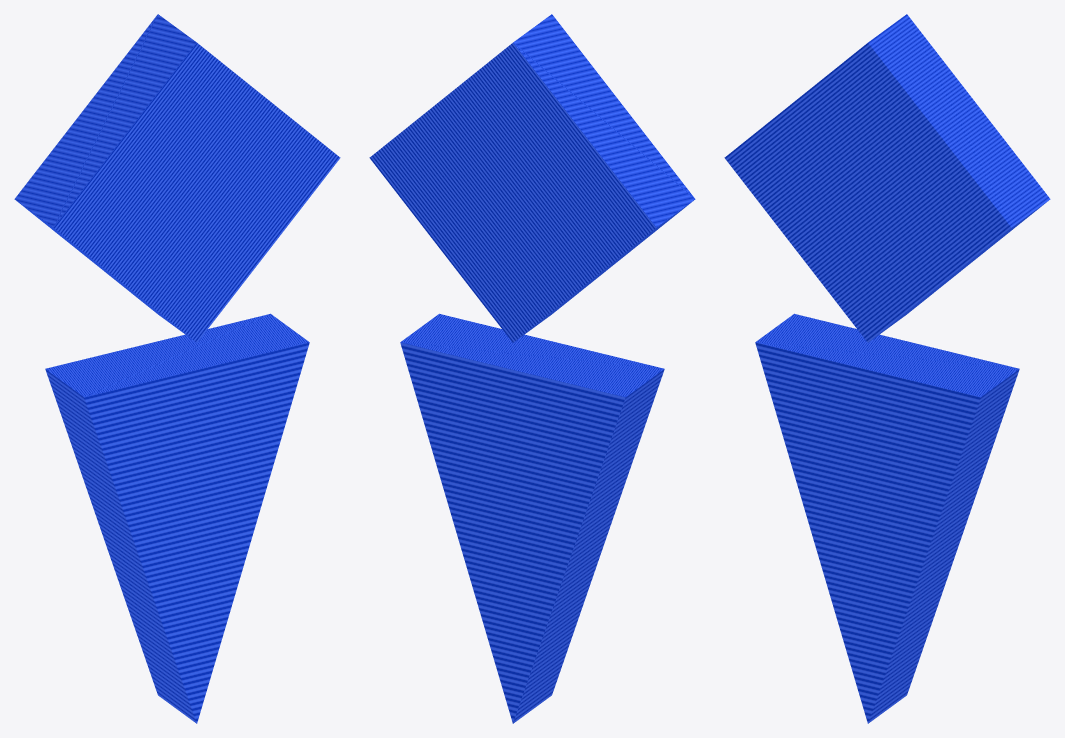
File: Environmental Cue.glb
3 views of the same model, side by side, from view 1: azimuth 30°, elevation 25°; view 2: azimuth 150°, elevation 25°; view 3: azimuth 330°, elevation 25° (orthographic).
Parts seen in each view (by area): view 1: Cue_Bottom, Cue_Top; view 2: Cue_Bottom, Cue_Top; view 3: Cue_Bottom, Cue_Top.
Boxes of the visible parts, box(x1,y1,x2,y2) form: Cue_Bottom: box(45, 313, 309, 723); Cue_Top: box(14, 14, 340, 342); Cue_Bottom: box(400, 313, 664, 723); Cue_Top: box(369, 14, 695, 342); Cue_Bottom: box(755, 313, 1019, 723); Cue_Top: box(724, 14, 1050, 342).
Size of the model in its own units: 1.27 by 2.89 by 0.3.
1 material, 1 textured.
